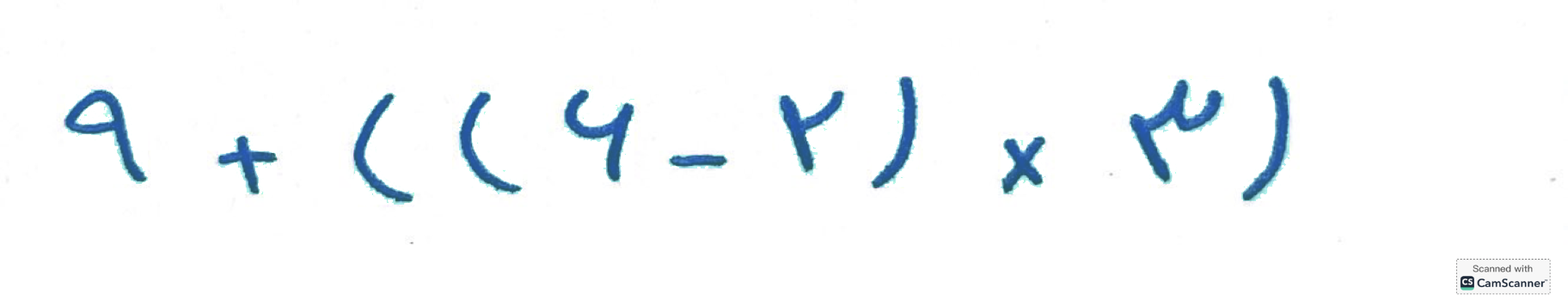character: (767, 201, 858, 306), (368, 201, 446, 306), (151, 183, 217, 306), (1336, 217, 1425, 306), (1479, 217, 1568, 306), (952, 198, 1007, 306), (271, 209, 313, 306), (1143, 295, 1218, 306), (587, 297, 665, 306)
